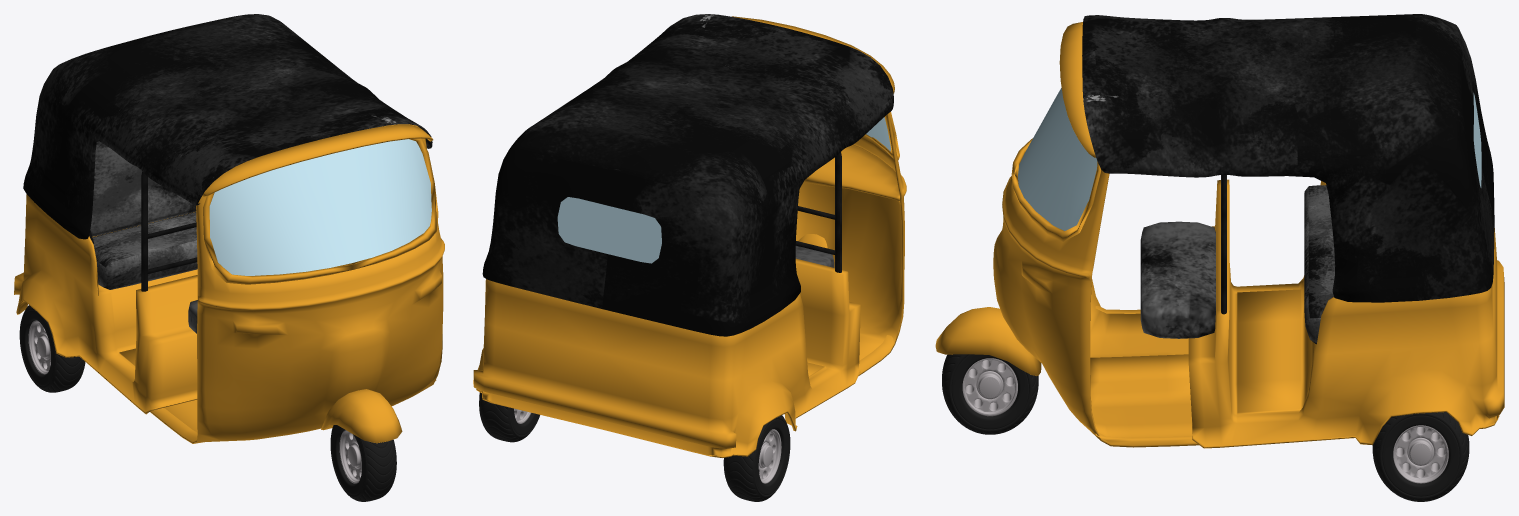
Rendered from TukTuk_IN.fbx.
3 views of the same model, side by side, from view 1: azimuth 30°, elevation 25°; view 2: azimuth 150°, elevation 25°; view 3: azimuth 270°, elevation 25° (orthographic). The views are drawn at different scales.
Visible parts, largest first — view 1: TUKTUK_IN; view 2: TUKTUK_IN; view 3: TUKTUK_IN.
Part boxes in pixels (x1=…): TUKTUK_IN: x1=14, y1=14, x2=444, y2=501; TUKTUK_IN: x1=473, y1=14, x2=906, y2=501; TUKTUK_IN: x1=935, y1=14, x2=1504, y2=501.
Bounding box in the file's own units: 266 × 300 × 411.
